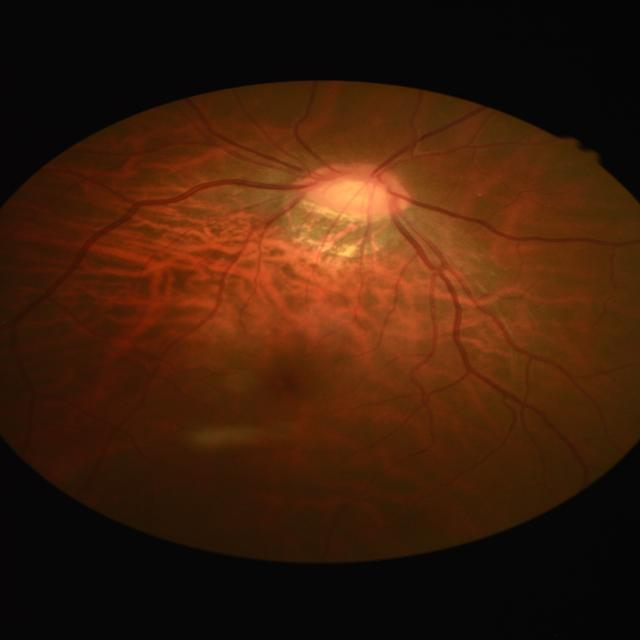cup: (310, 174, 390, 208)
disk: (299, 160, 412, 222)
